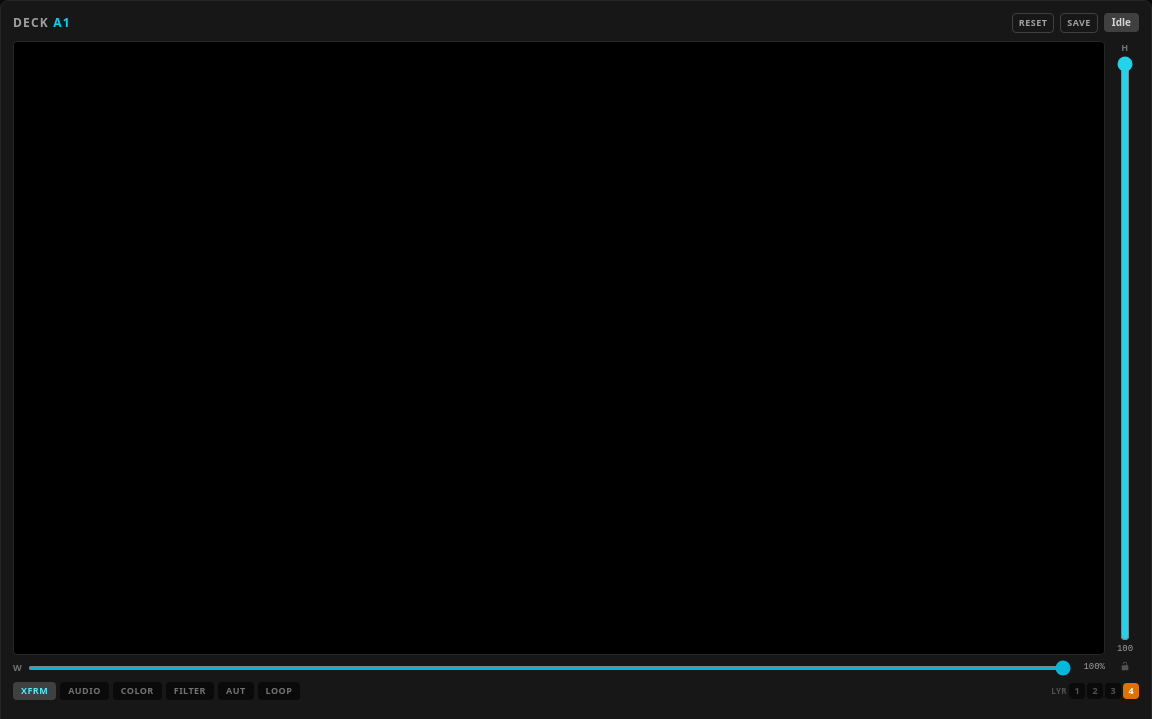
Scenario: DeckModule tabs › COLOR tab exposes contrast, hue and saturation
This screenshot has width=1152, height=719.
Click the button "COLOR".
click(137, 691)  # box top-left (113, 682), bottom-right (162, 700)
(page scrolled)
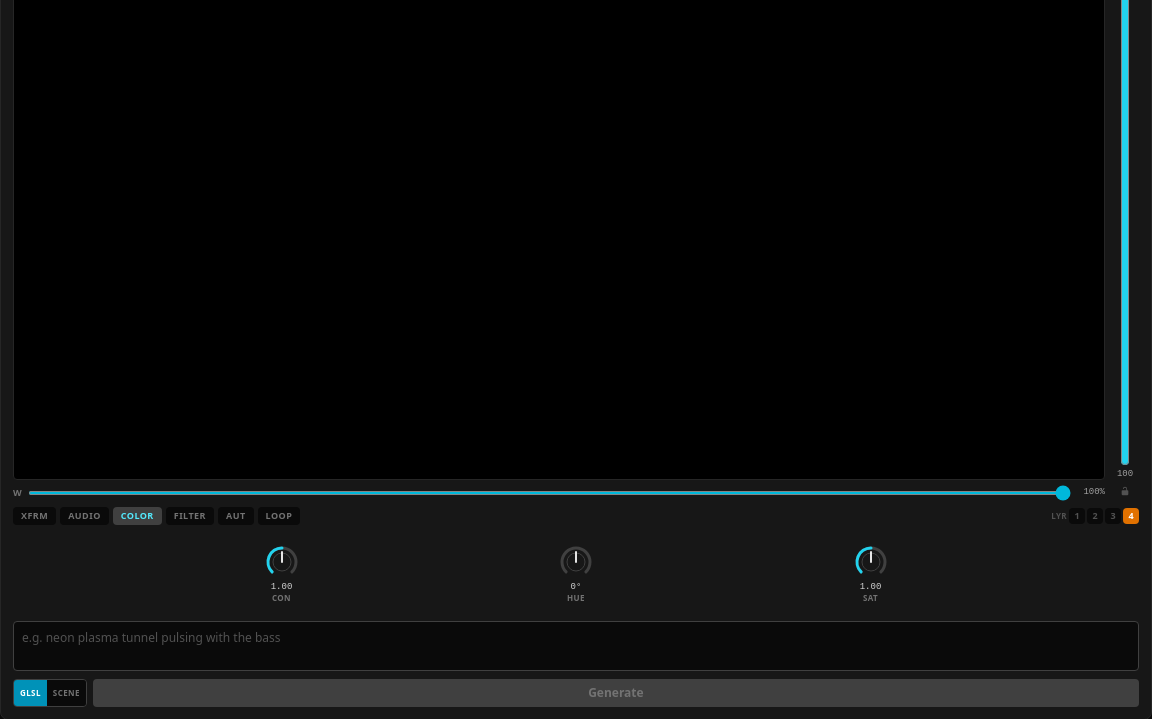
Check: the slider named "CON" is shown, box top-left (262, 543), bottom-right (300, 581)
Check: the slider named "HUE" is shown, box top-left (557, 543), bottom-right (595, 581)
Check: the slider named "SAT" is shown, box top-left (852, 543), bottom-right (890, 581)
